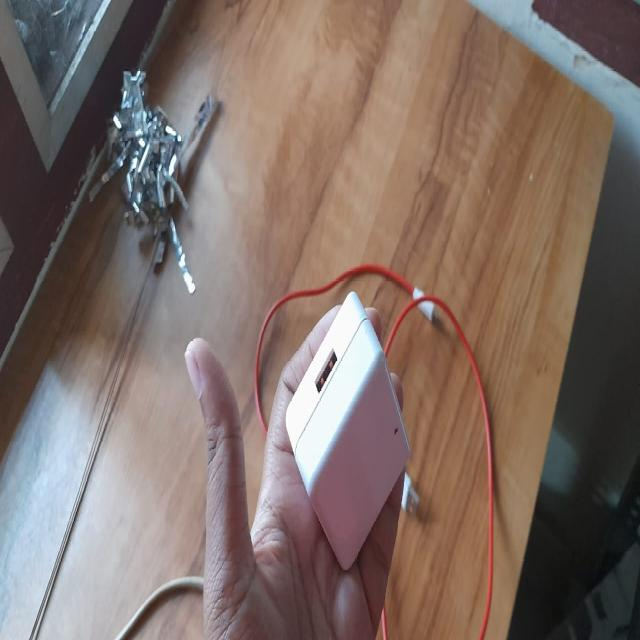Charger - Recyclable: (284, 288, 412, 572)
